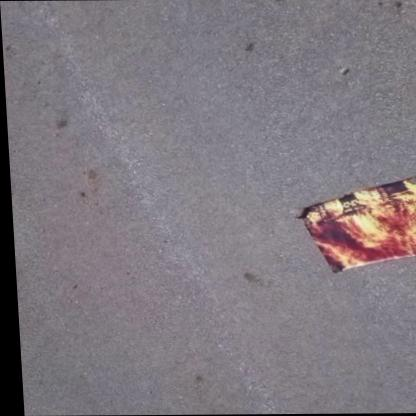fire-poster: (289, 174, 416, 274)
